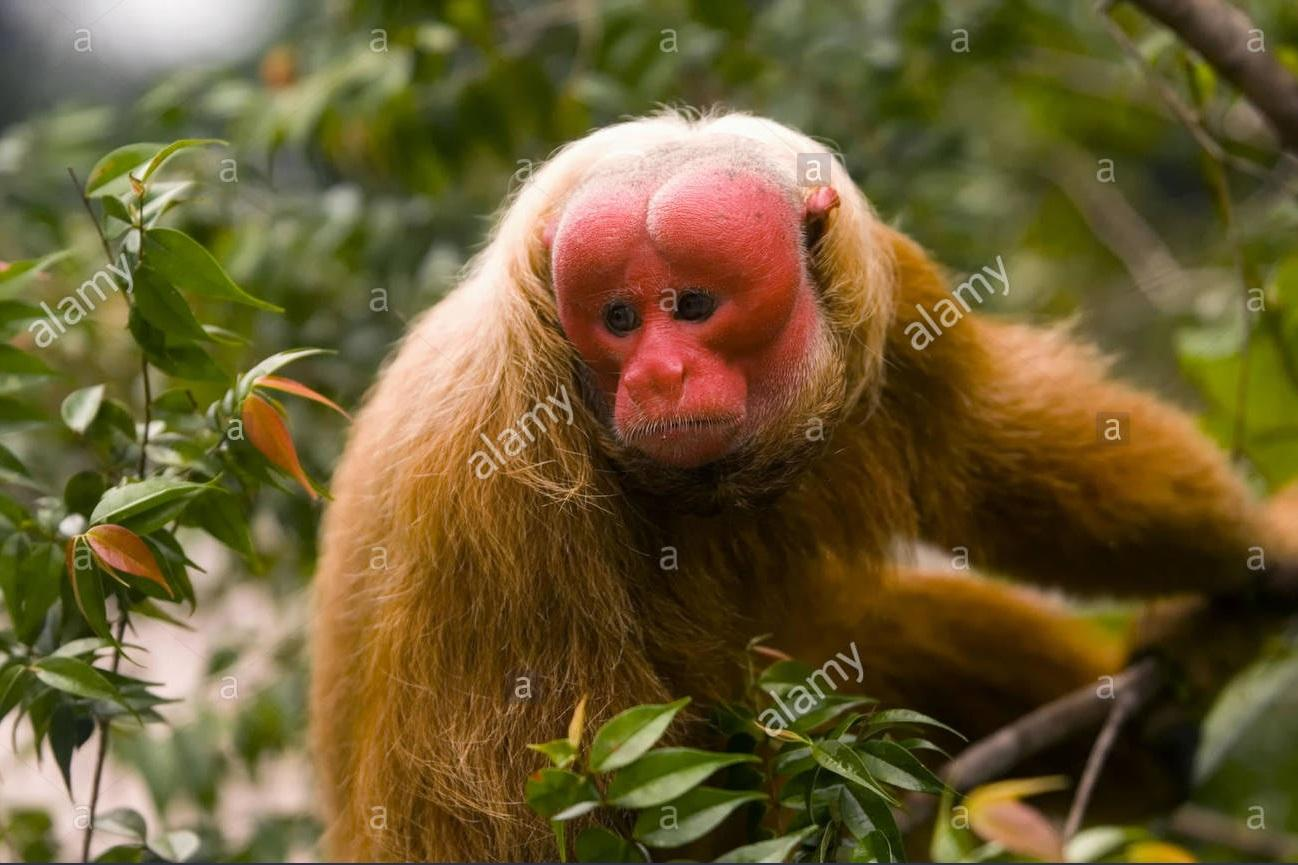monkey: (312, 113, 1120, 859)
